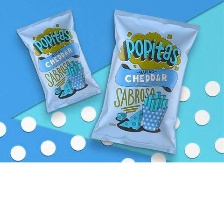snack: (84, 2, 204, 159), (9, 4, 106, 116)
